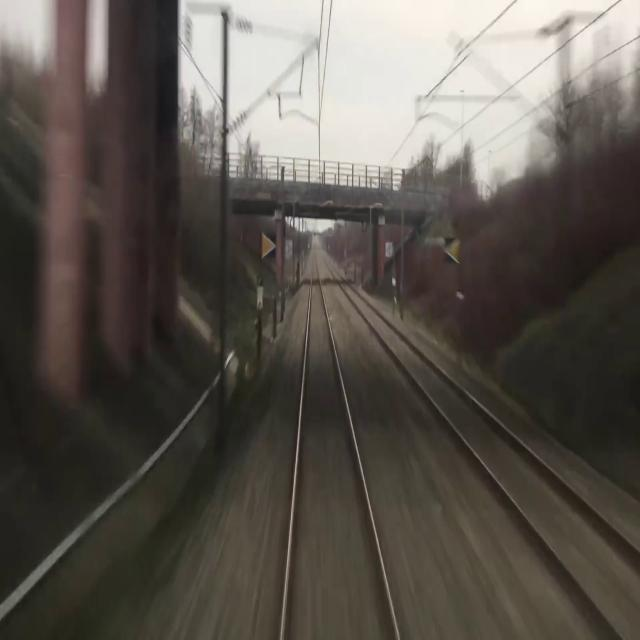rail-track: (317, 247, 640, 639), (283, 248, 396, 639)
